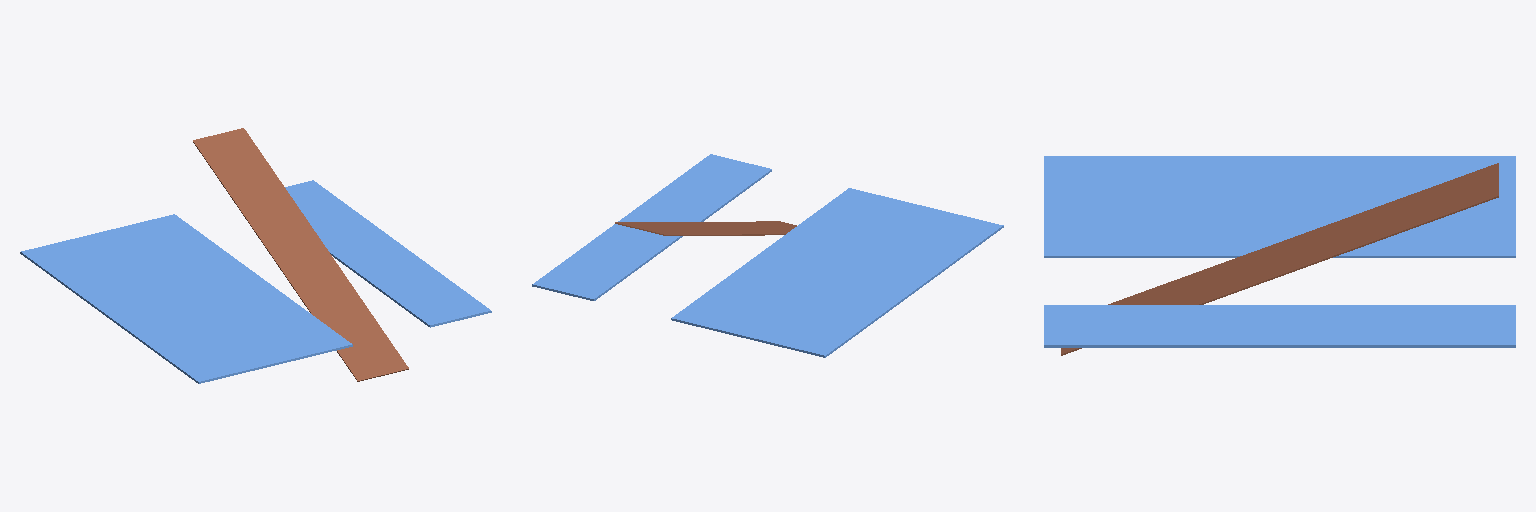
The robot description file, URDF, robot "chimney":
<?xml version="0.0" ?>
<robot name="chimney">

  <material name = "light_blue">
      <color rgba="0.52 0.73 1 1"/>
  </material>

  <material name = "brown">
      <color rgba="0.68 0.45 0.35 1.0"/>
  </material>

  <material name="brown2">
      <color rgba="0.545 0.27 0.074 1.0"/>
  </material>

  <link name="first_ground">
    <inertial>
      <origin rpy="0 0 0" xyz="0 0 0"/>
       <mass value="1.0"/>
       <inertia ixx="1" ixy="0" ixz="0" iyy="1" iyz="0" izz="1"/>
    </inertial>
    <visual>
      <origin rpy="0 0 0" xyz="-0.2 0 -0.005"/>
      <geometry>
        <box size="0.75 1.5 0.01"/>
      </geometry>
      <material name="light_blue"/>
    </visual>
  </link>

  <joint name="first_to_second" type="fixed">
    <origin rpy="0 0 0" xyz="0.352 0 0.08"/>
    <parent link="first_ground"/>
    <child link="second_ground"/>
  </joint>
  <link name="second_ground">
    <inertial>
      <origin rpy="0 0 0" xyz="0 0 0"/>
       <mass value="1.0"/>
       <inertia ixx="1" ixy="0" ixz="0" iyy="1" iyz="0" izz="1"/>
    </inertial>
    <visual>
      <origin rpy="0.3805 0 0" xyz="0.00372 0 -0.00928"/>
      <geometry>
        <box size="0.25 1.5 0.005"/>
      </geometry>
      <material name="brown"/>
    </visual>
  </link>

  <joint name="first_to_fourth" type="fixed">
    <origin rpy="0 0 0" xyz="0.7 0 0"/>
    <parent link="first_ground"/>
    <child link="fourth_ground"/>
  </joint>
  <link name="fourth_ground">
    <inertial>
      <origin rpy="0 0 0" xyz="0 0 0"/>
       <mass value="1.0"/>
       <inertia ixx="1" ixy="0" ixz="0" iyy="1" iyz="0" izz="1"/>
    </inertial>
    <visual>
      <origin rpy="0 0 0" xyz="0 0 -0.005"/>
      <geometry>
        <box size="0.3 1.5 0.01"/>
      </geometry>
      <material name="light_blue"/>
    </visual>
  </link>

</robot>

--- What the picture shows (computed from the rendered views, not written in the file) ---
3 views of the same robot in one strip: view 1: azimuth 30°, elevation 25°; view 2: azimuth 150°, elevation 25°; view 3: azimuth 270°, elevation 25° (orthographic).
Model chimney with 3 links and 2 joints (2 fixed), rooted at first_ground, posed all joints at 0.
Visible links, largest first — view 1: first_ground, second_ground, fourth_ground; view 2: first_ground, fourth_ground, second_ground; view 3: first_ground, fourth_ground, second_ground.
Link boxes in pixels (left/top/right/bottom): first_ground: left=20, top=214, right=352, bottom=383; second_ground: left=193, top=128, right=408, bottom=381; fourth_ground: left=285, top=180, right=491, bottom=327; first_ground: left=671, top=188, right=1003, bottom=357; fourth_ground: left=532, top=154, right=771, bottom=300; second_ground: left=615, top=221, right=796, bottom=235; first_ground: left=1044, top=156, right=1515, bottom=257; fourth_ground: left=1044, top=305, right=1515, bottom=347; second_ground: left=1061, top=163, right=1498, bottom=355.
Size in the robot's own frame: 1.43 by 1.5 by 0.5617 metres.
Geometry: primitives only (box / cylinder / sphere), no mesh files.